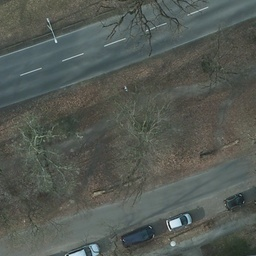car: (120, 227, 154, 246), (222, 189, 246, 212), (166, 213, 192, 230)
